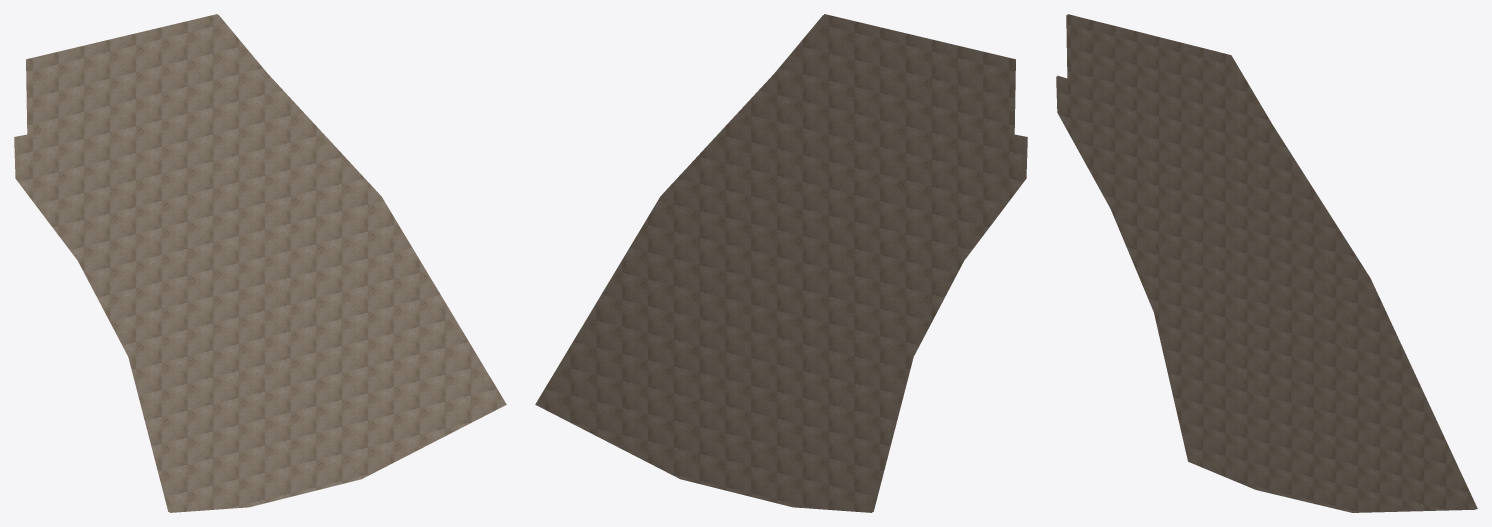
The model's file is floor_27.obj.
The picture shows the model from 3 angles, left to right: view 1: azimuth 30°, elevation 25°; view 2: azimuth 150°, elevation 25°; view 3: azimuth 330°, elevation 25°; orthographic projection. The views are drawn at different scales.
Parts seen in each view (by area): view 1: floor_27; view 2: floor_27; view 3: floor_27.
Boxes of the visible parts, x1,y1,x2,y2 form: floor_27: (14,14,506,512); floor_27: (535,14,1027,512); floor_27: (1056,14,1477,512).
Size of the model in its own units: 19.05 by 18.56 by 0.1.
Materials: 1 (1 with a texture image).
